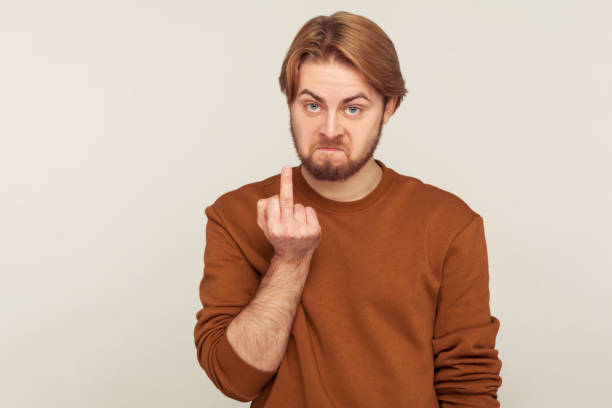insulting_gesture: (257, 163, 320, 260)
